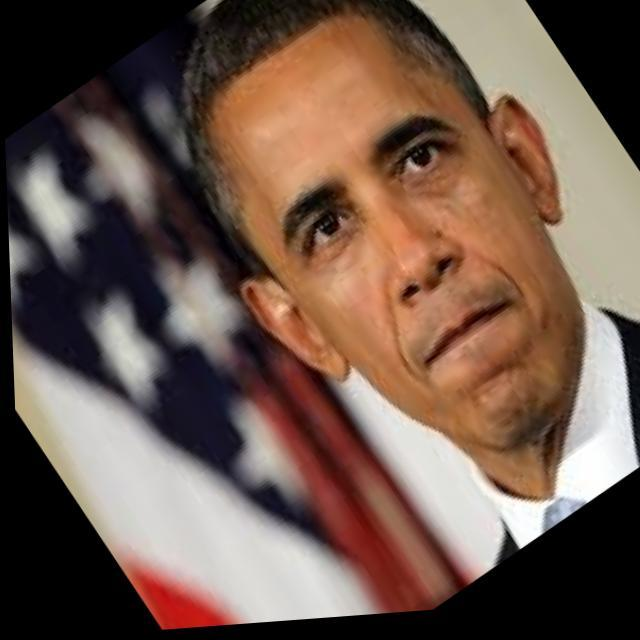Nonhelmet: (178, 0, 596, 454)
